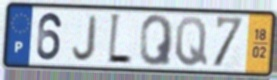6: (36, 11, 64, 63)
7: (211, 15, 245, 71)
J: (71, 13, 100, 63)
L: (106, 11, 133, 67)
Q: (138, 13, 176, 68), (174, 14, 209, 68)
